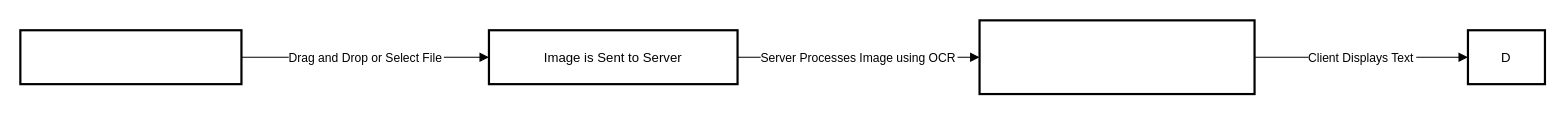
The diagram is 1564 pixels wide and 113 high, and some of its shapes have lost their labels. Here are the shapes that lost their labels. From the top down, the centre of each, then its label:
At point 130,57: "User Uploads Image".
At point 1116,57: "Extracted Text is Returned to Client".
